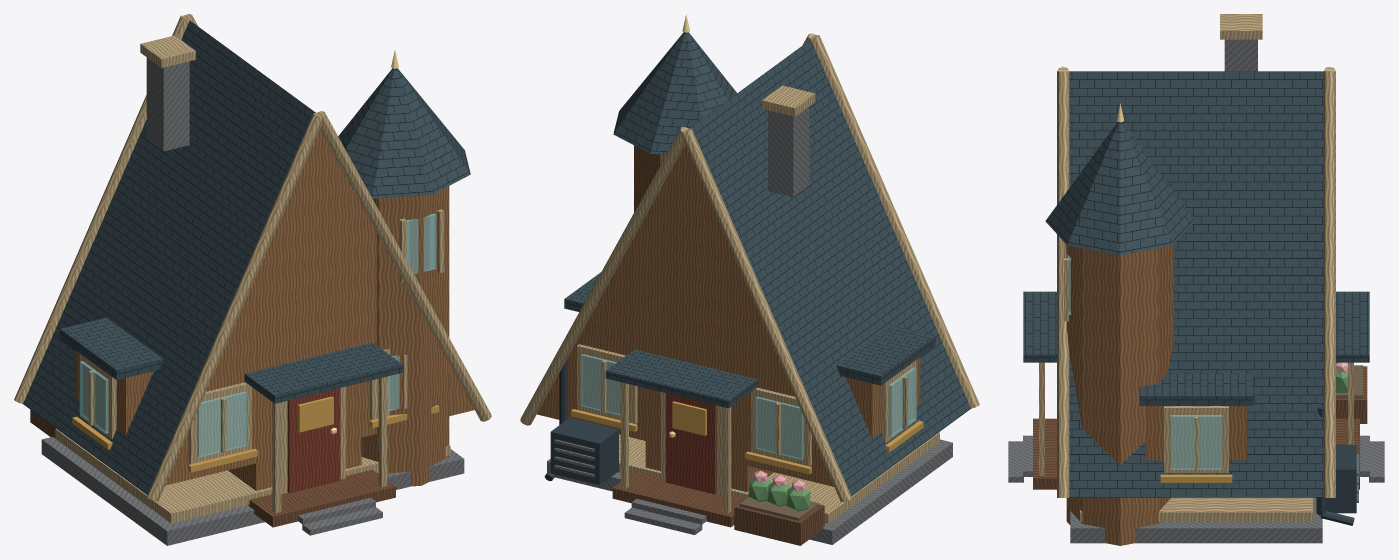
The model's file is house_aframe_lv5_tower.glb.
3 views of the same model, side by side, from view 1: azimuth 30°, elevation 25°; view 2: azimuth 150°, elevation 25°; view 3: azimuth 270°, elevation 25° (orthographic). The views are drawn at different scales.
Visible parts, largest first — view 1: steep_roof, a_frame_gables, tower, tower_roof, foundation, a_frame_edge, front_porch_canopy, floor_trim, a_frame_edge.002, walls, front_door, chimney (+17 smaller); view 2: steep_roof, a_frame_gables, tower_roof, a_frame_edge.001, back_porch_canopy, a_frame_edge.003, a_frame_edge, back_door, foundation, back_window_frame, left_dormer_cap, back_ac_unit (+22 smaller); view 3: steep_roof.001, tower, tower_roof, a_frame_edge.003, foundation, a_frame_edge.002, right_window_frame, floor_trim, right_dormer_cap, right_window_glass, back_porch_canopy, front_porch_canopy (+12 smaller).
Boxes of the visible parts, x1=… form: steep_roof: x1=23, y1=20, x2=315, y2=494; a_frame_gables: x1=165, y1=130, x2=474, y2=485; tower: x1=361, y1=186, x2=449, y2=486; tower_roof: x1=338, y1=68, x2=470, y2=198; foundation: x1=41, y1=436, x2=464, y2=545; a_frame_edge: x1=147, y1=113, x2=322, y2=501; front_porch_canopy: x1=244, y1=342, x2=403, y2=403; floor_trim: x1=55, y1=428, x2=450, y2=523; a_frame_edge.002: x1=317, y1=111, x2=491, y2=421; walls: x1=228, y1=289, x2=361, y2=490; front_door: x1=287, y1=388, x2=340, y2=493; chimney: x1=146, y1=57, x2=189, y2=151; steep_roof: x1=689, y1=39, x2=970, y2=495; a_frame_gables: x1=537, y1=145, x2=833, y2=486; tower_roof: x1=613, y1=32, x2=736, y2=154; a_frame_edge.001: x1=683, y1=128, x2=851, y2=501; back_porch_canopy: x1=605, y1=349, x2=757, y2=408; a_frame_edge.003: x1=520, y1=127, x2=688, y2=425; a_frame_edge: x1=811, y1=35, x2=979, y2=408; back_door: x1=665, y1=393, x2=716, y2=494; foundation: x1=547, y1=439, x2=952, y2=544; back_window_frame: x1=751, y1=387, x2=811, y2=466; left_dormer_cap: x1=836, y1=325, x2=935, y2=385; back_ac_unit: x1=550, y1=417, x2=618, y2=485; steep_roof.001: x1=1069, y1=71, x2=1323, y2=497; tower: x1=1066, y1=245, x2=1173, y2=545; tower_roof: x1=1045, y1=122, x2=1194, y2=255; a_frame_edge.003: x1=1323, y1=71, x2=1335, y2=497; foundation: x1=1070, y1=497, x2=1322, y2=543; a_frame_edge.002: x1=1057, y1=71, x2=1069, y2=497; right_window_frame: x1=1164, y1=406, x2=1228, y2=472; floor_trim: x1=1080, y1=497, x2=1312, y2=521; right_dormer_cap: x1=1139, y1=373, x2=1253, y2=405; right_window_glass: x1=1170, y1=415, x2=1222, y2=469; back_porch_canopy: x1=1336, y1=291, x2=1369, y2=362; front_porch_canopy: x1=1023, y1=291, x2=1056, y2=362.
Bounding box in the file's own units: 6.6 × 7.6 × 6.19.
13 materials, 7 textured.
